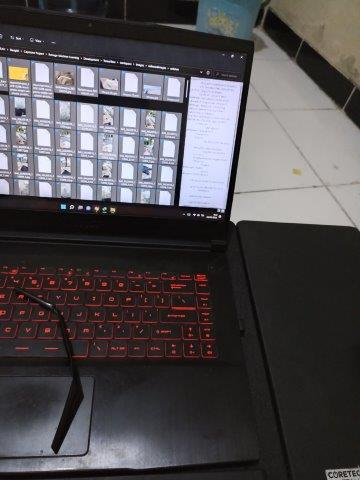sedotan: (15, 288, 78, 451)
